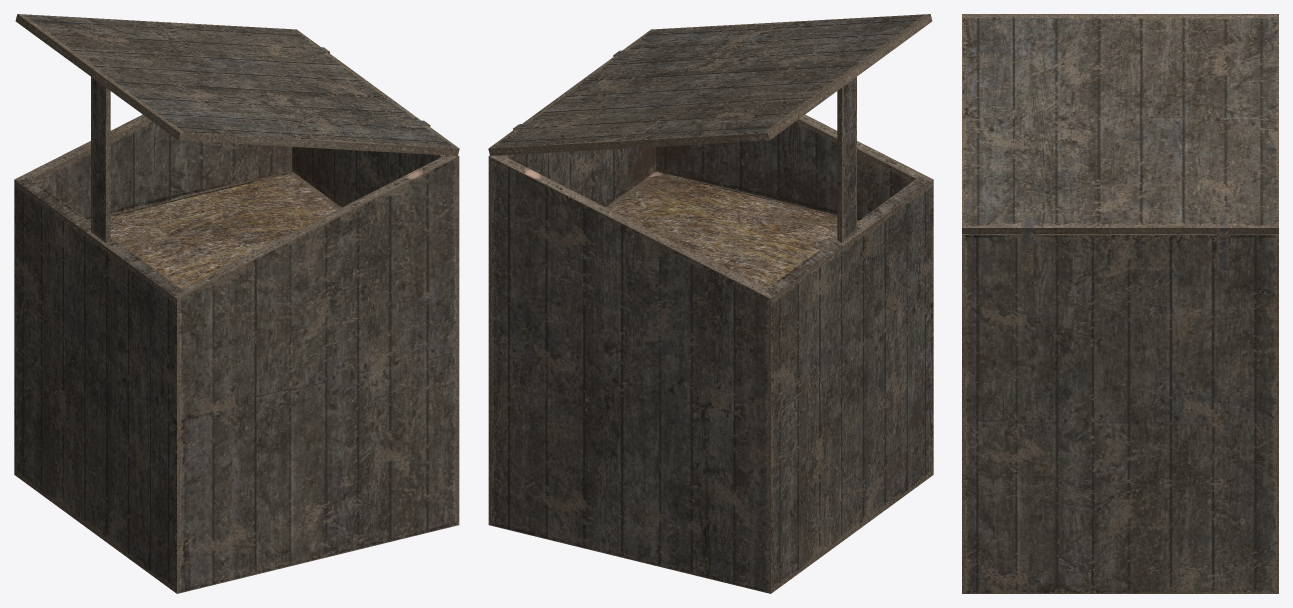
Rendered from compost_bin_free.glb.
The picture shows the model from 3 angles, left to right: view 1: azimuth 30°, elevation 25°; view 2: azimuth 150°, elevation 25°; view 3: azimuth 270°, elevation 25°; orthographic projection. The views are drawn at different scales.
Visible parts, largest first — view 1: CompostBin; view 2: CompostBin; view 3: CompostBin.
Part boxes in pixels (x1,y1,x2,y2): CompostBin: (14, 14, 459, 593); CompostBin: (488, 14, 933, 593); CompostBin: (962, 14, 1278, 593).
Bounding box in the file's own units: 101 × 156 × 100.
1 material, 1 textured.
